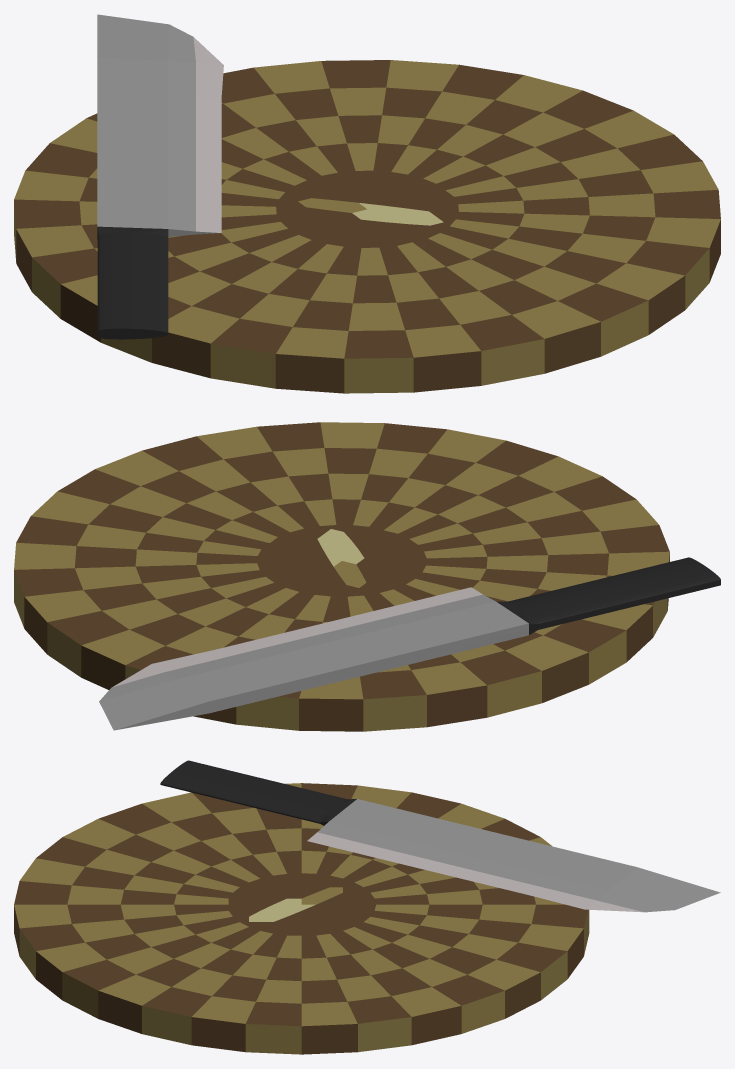
Rendered from Chopping_Board.fbx.
The picture shows the model from 3 angles, top to bottom: view 1: azimuth 30°, elevation 25°; view 2: azimuth 150°, elevation 25°; view 3: azimuth 270°, elevation 25°; orthographic projection. The views are drawn at different scales.
Parts seen in each view (by area): view 1: Cutting Board, Knife; view 2: Cutting Board, Knife; view 3: Cutting Board, Knife.
Boxes of the visible parts, <box> form: Cutting Board: <box>14,60,720,393</box>; Knife: <box>97,14,223,339</box>; Cutting Board: <box>14,422,669,731</box>; Knife: <box>99,557,720,730</box>; Cutting Board: <box>14,783,589,1054</box>; Knife: <box>160,760,720,912</box>.
Bounding box in the file's own units: 211 × 15.57 × 246.
